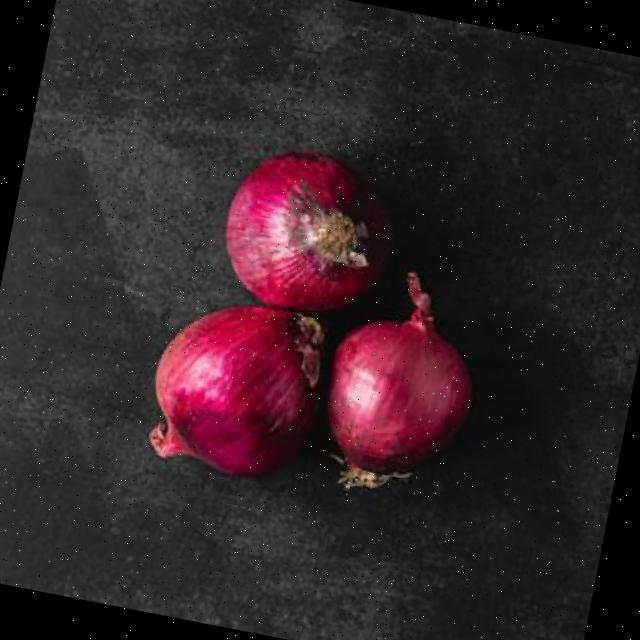Onion: (329, 270, 473, 487), (150, 306, 327, 477), (226, 149, 394, 311)
